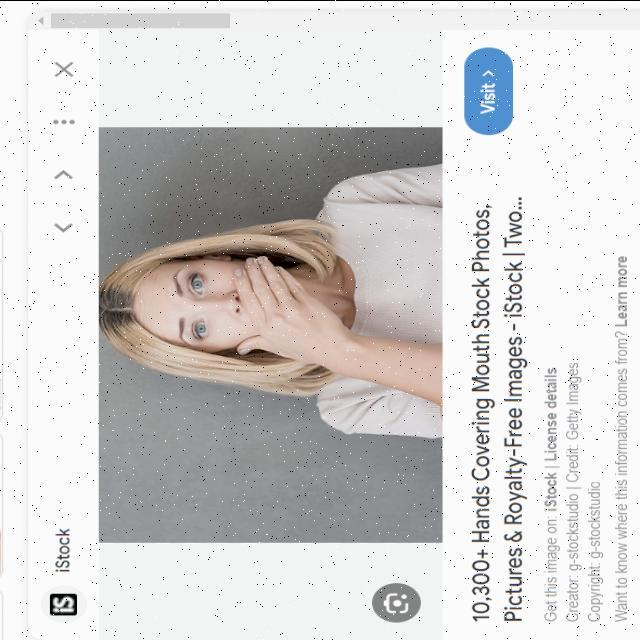face_with_hand: (130, 256, 312, 351)
